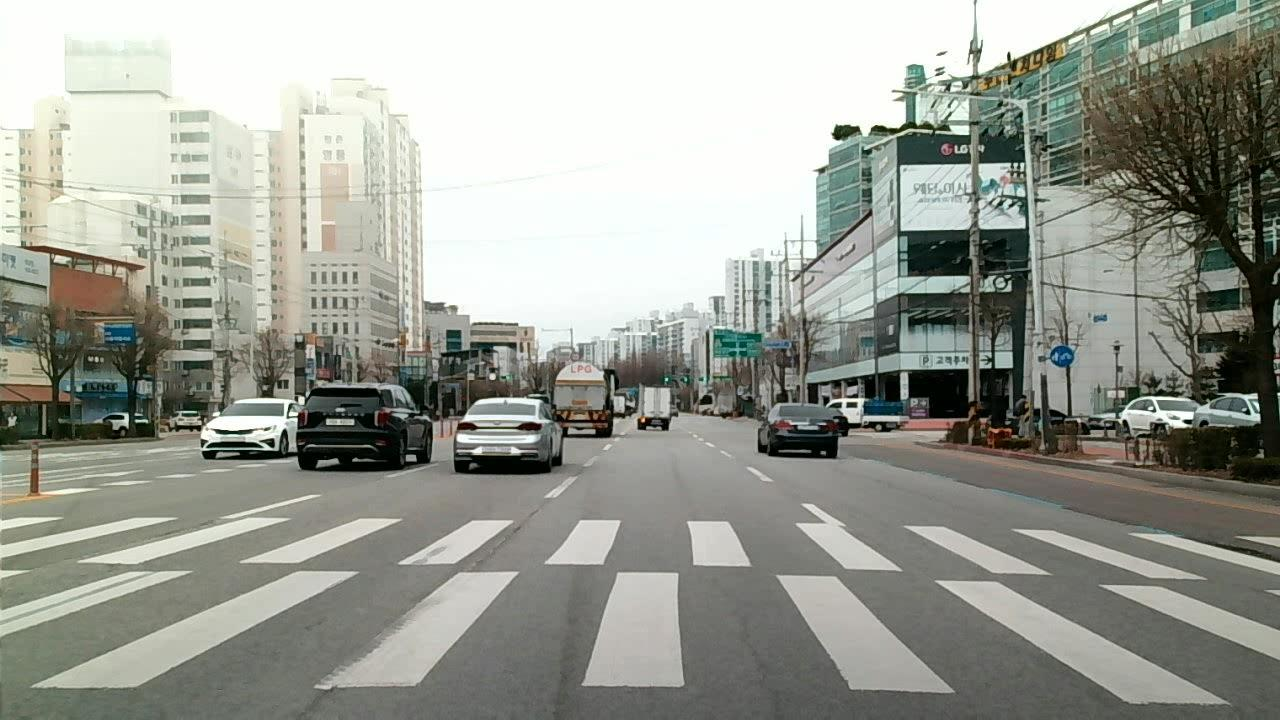vcrack: (732, 618, 788, 720), (476, 501, 548, 568)
